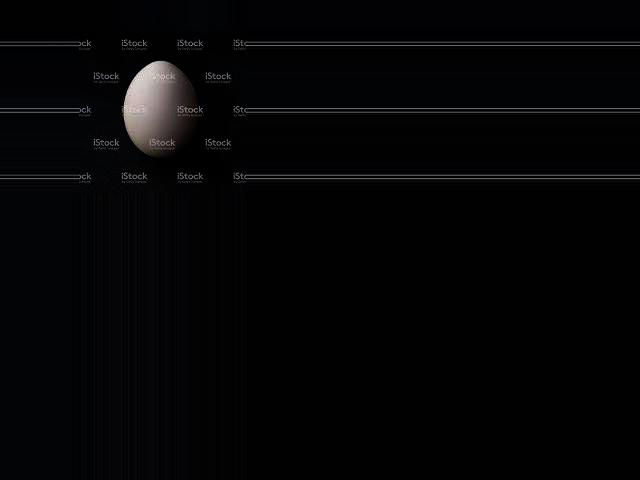egg: (123, 60, 199, 159)
